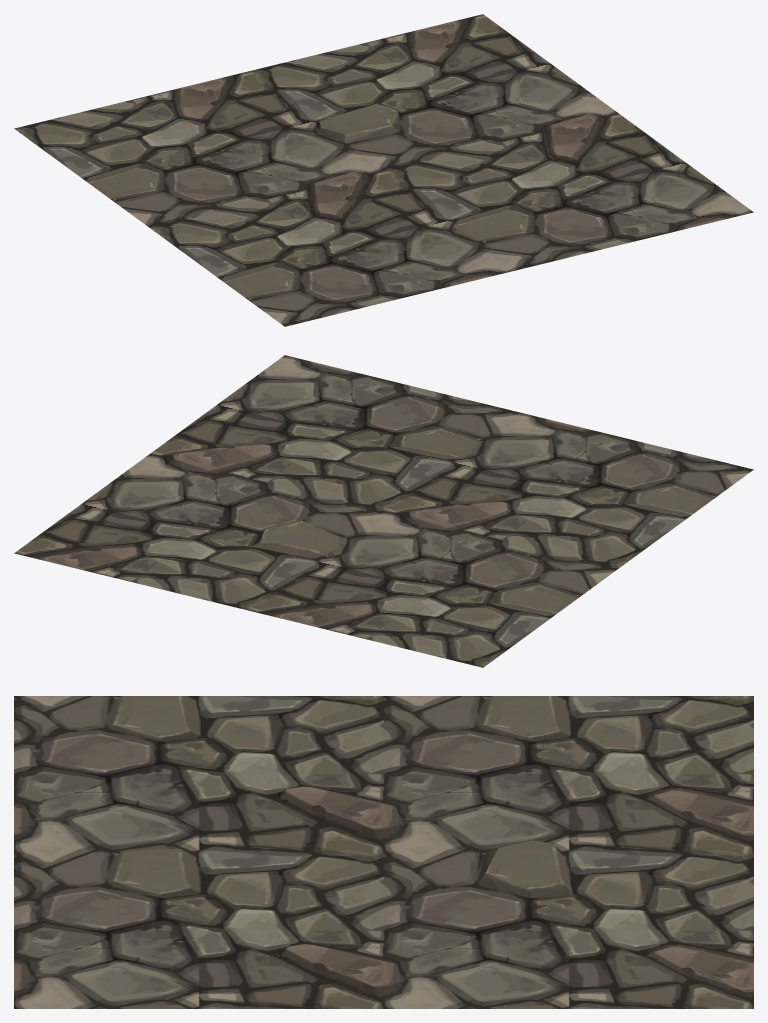
The model's file is FloorCeiling_FloortileStone_Tavern_AB.fbx.
3 views of the same model, one above another, from view 1: azimuth 30°, elevation 25°; view 2: azimuth 150°, elevation 25°; view 3: azimuth 270°, elevation 25° (orthographic). The views are drawn at different scales.
Parts seen in each view (by area): view 1: polySurface368; view 2: polySurface368; view 3: polySurface368.
Boxes of the visible parts, box(x1,y1,x2,y2) form: polySurface368: box(14, 14, 753, 326); polySurface368: box(14, 355, 753, 667); polySurface368: box(14, 696, 753, 1008).
Bounding box in the file's own units: 300 × 4.33 × 300.
